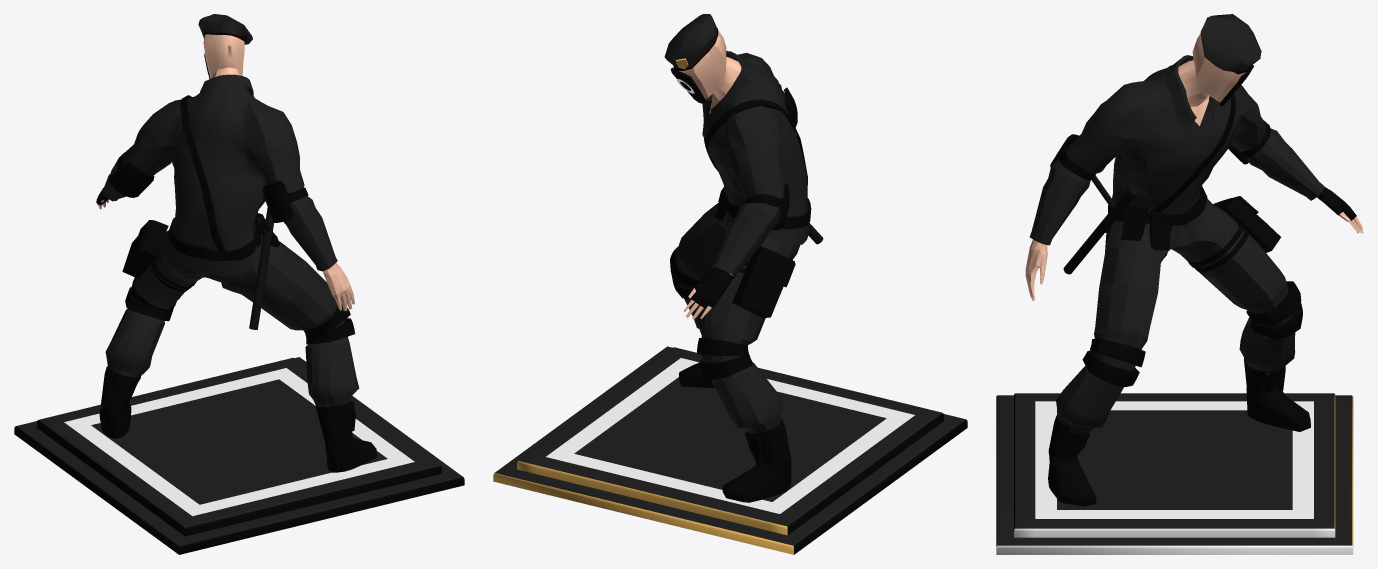
Rendered from UnitBlack_CombatStance2.fbx.
The picture shows the model from 3 angles, left to right: view 1: azimuth 30°, elevation 25°; view 2: azimuth 150°, elevation 25°; view 3: azimuth 270°, elevation 25°; orthographic projection. The views are drawn at different scales.
Visible parts, largest first — view 1: Box092; view 2: Box092; view 3: Box092.
Part boxes in pixels (bbox=[...]): Box092: bbox=[14, 14, 464, 554]; Box092: bbox=[493, 14, 967, 554]; Box092: bbox=[996, 14, 1363, 554].
Bounding box in the file's own units: 100 × 143 × 103.
